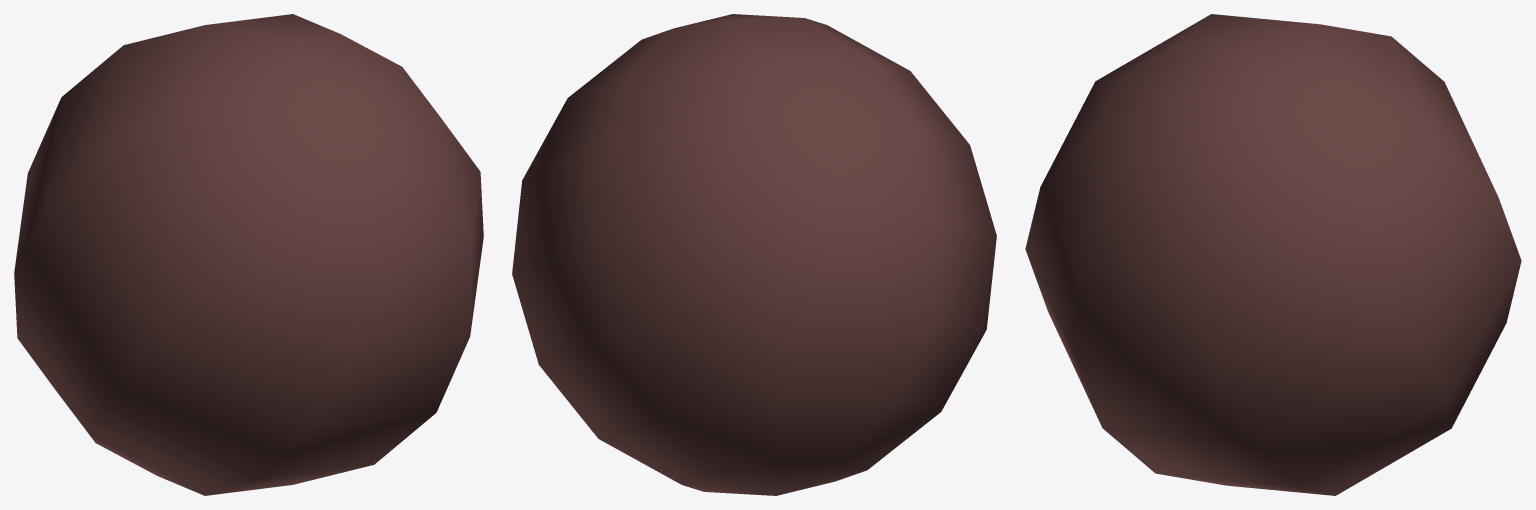
Rendered from Cikolata.fbx.
The picture shows the model from 3 angles, left to right: view 1: azimuth 30°, elevation 25°; view 2: azimuth 150°, elevation 25°; view 3: azimuth 270°, elevation 25°; orthographic projection.
Parts seen in each view (by area): view 1: Cıkolata; view 2: Cıkolata; view 3: Cıkolata.
Boxes of the visible parts, x1=… form: Cıkolata: x1=14, y1=14, x2=483, y2=495; Cıkolata: x1=512, y1=14, x2=996, y2=495; Cıkolata: x1=1025, y1=14, x2=1521, y2=495.
Size of the model in its own units: 44.96 by 45.41 by 46.05.
